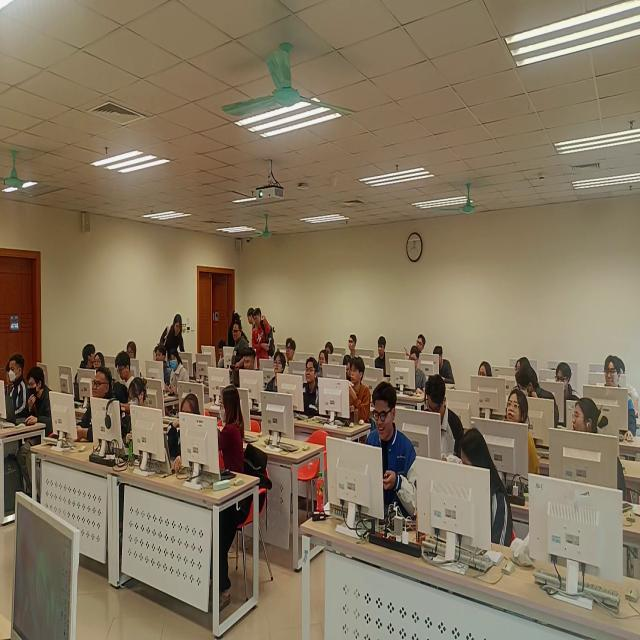raise_head: (74, 366, 115, 443), (506, 391, 543, 476), (347, 355, 373, 426), (169, 349, 191, 398), (267, 350, 289, 393), (304, 358, 320, 415), (373, 337, 392, 380), (155, 346, 169, 384), (285, 337, 299, 374), (318, 348, 332, 381), (348, 332, 360, 358), (478, 362, 494, 379), (94, 353, 106, 373), (416, 334, 427, 355), (325, 341, 335, 355)
stand: (253, 308, 277, 370), (232, 320, 251, 388), (160, 314, 186, 353), (229, 310, 242, 348), (248, 306, 258, 346)
using_computer: (366, 383, 419, 519), (460, 428, 514, 549), (423, 372, 465, 467), (604, 357, 638, 443), (166, 393, 201, 476), (28, 367, 54, 434), (615, 358, 640, 421), (9, 354, 31, 421), (127, 378, 148, 447), (407, 347, 429, 397), (555, 363, 581, 403), (115, 350, 136, 398), (433, 345, 456, 385), (215, 340, 228, 370), (243, 347, 258, 373), (343, 356, 354, 382)
